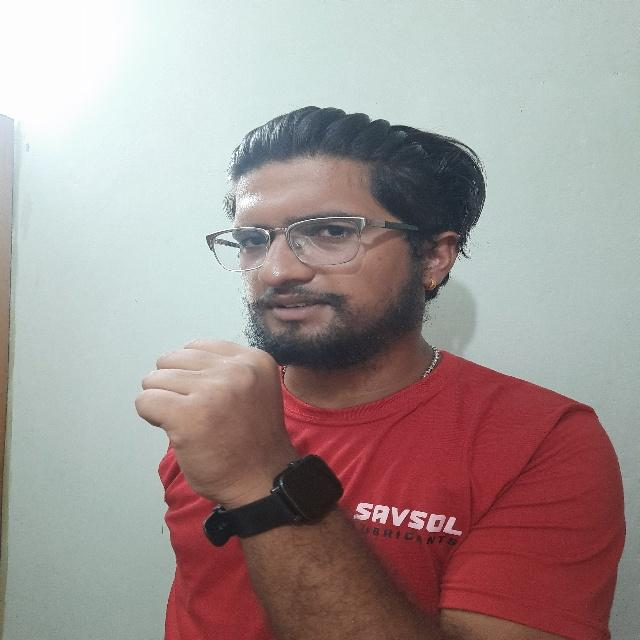Fist Mouth: (117, 95, 490, 513)
